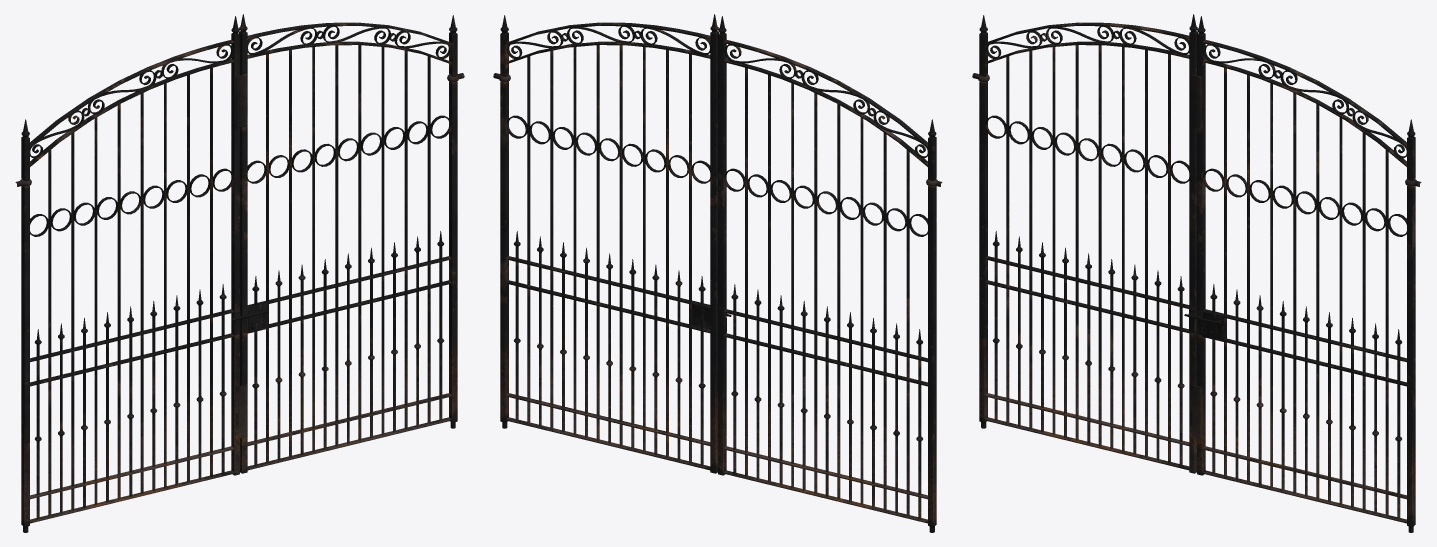
The model's file is large_iron_gate.glb.
3 renders of one model, left to right at view 1: azimuth 30°, elevation 25°; view 2: azimuth 150°, elevation 25°; view 3: azimuth 330°, elevation 25°, orthographic.
Parts seen in each view (by area): view 1: large_iron_gate_right_door, large_iron_gate_left_door; view 2: large_iron_gate_left_door, large_iron_gate_right_door; view 3: large_iron_gate_right_door, large_iron_gate_left_door.
Boxes of the visible parts, x1=… form: large_iron_gate_right_door: x1=235, y1=14, x2=457, y2=473; large_iron_gate_left_door: x1=21, y1=16, x2=241, y2=532; large_iron_gate_left_door: x1=718, y1=16, x2=936, y2=532; large_iron_gate_right_door: x1=500, y1=14, x2=718, y2=473; large_iron_gate_right_door: x1=1190, y1=16, x2=1415, y2=532; large_iron_gate_left_door: x1=979, y1=14, x2=1197, y2=473.
Size of the model in its own units: 4 by 3.97 by 0.132.
Materials: 1 (1 with a texture image).
